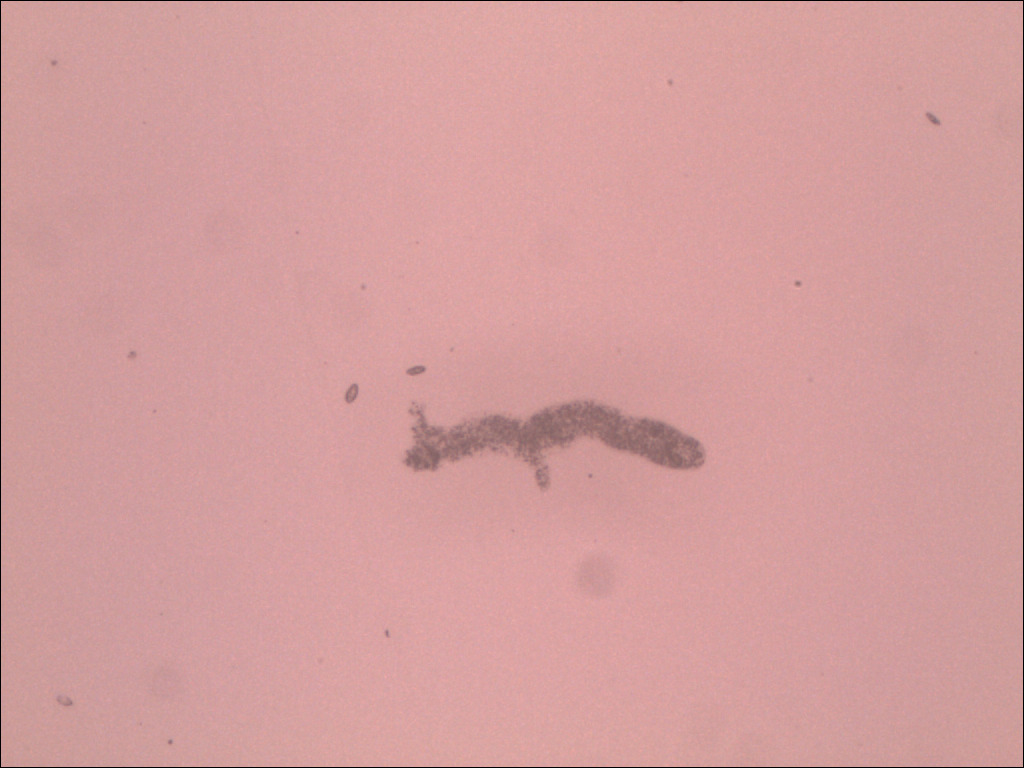amoeba: (393, 391, 723, 501)
